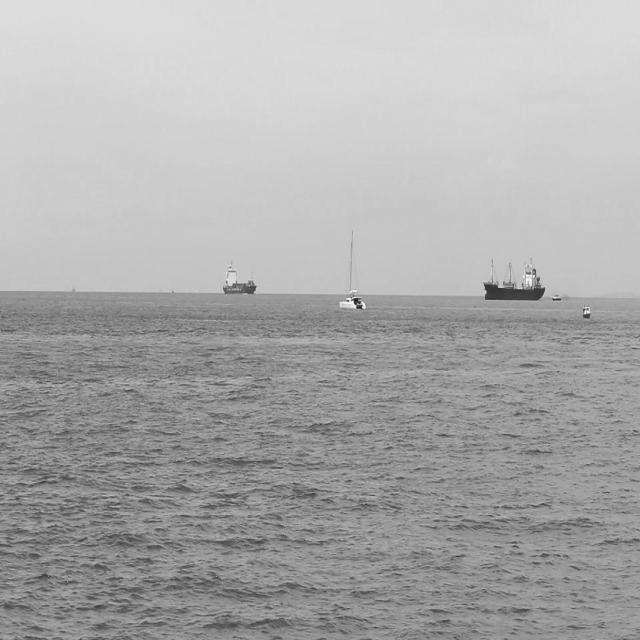ship: (483, 257, 546, 301), (338, 228, 367, 311), (222, 258, 257, 295), (580, 302, 592, 320), (552, 293, 562, 302)
